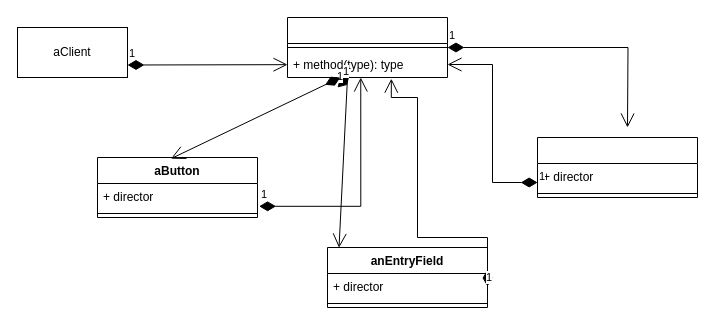
This 715x325 diagram has some shape labels left out. Each missing label, with the box of its shape:
aFontDoalogDirector: (286, 16, 448, 78)
aListBox: (536, 136, 698, 198)
